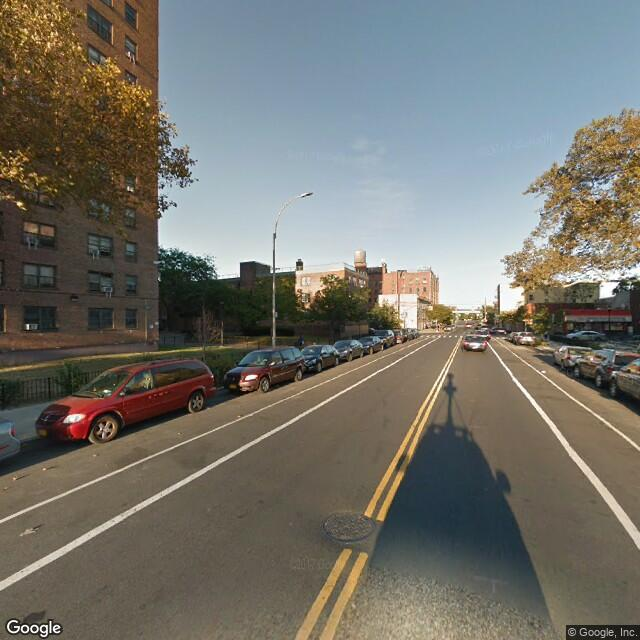litter: (541, 369, 545, 373)
